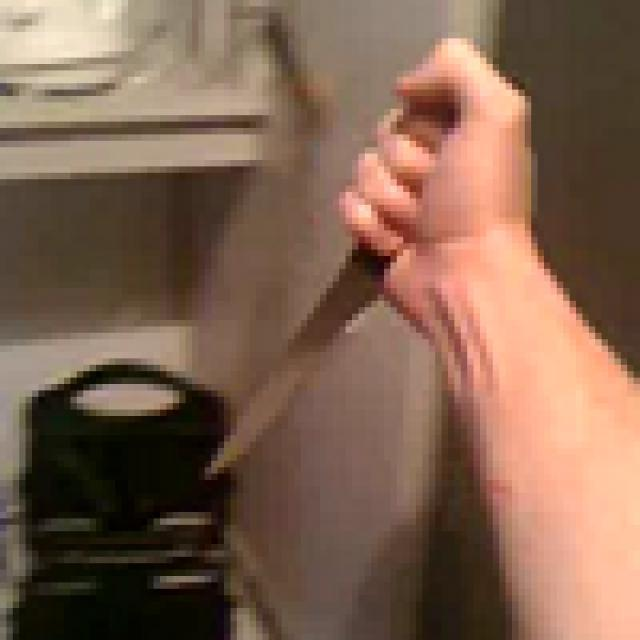knife: (205, 26, 480, 513)
